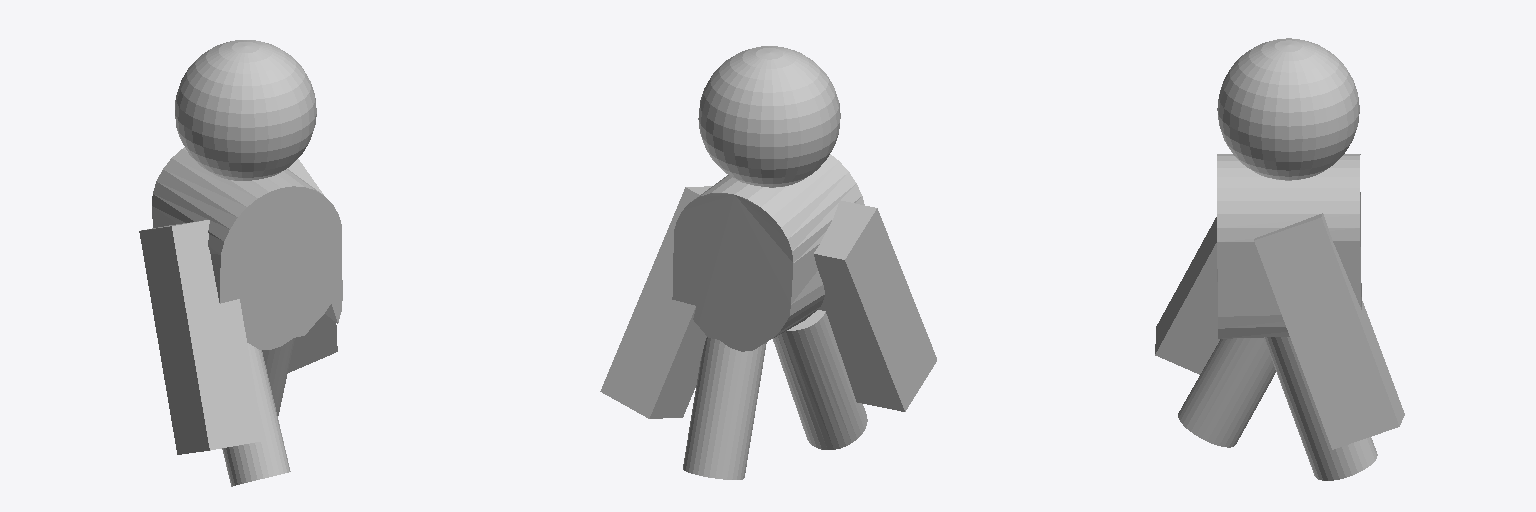
Rendered from Figurine131.obj.
The picture shows the model from 3 angles: view 1: azimuth 30°, elevation 25°; view 2: azimuth 150°, elevation 25°; view 3: azimuth 270°, elevation 25°; orthographic projection.
Parts seen in each view (by area): view 1: Cylinder; view 2: Cylinder; view 3: Cylinder.
Part boxes in pixels (left/top/right/bottom): Cylinder: left=139, top=40, right=342, bottom=486; Cylinder: left=600, top=46, right=936, bottom=479; Cylinder: left=1155, top=38, right=1404, bottom=480.
Bounding box in the file's own units: 3.49 × 6.44 × 3.51.